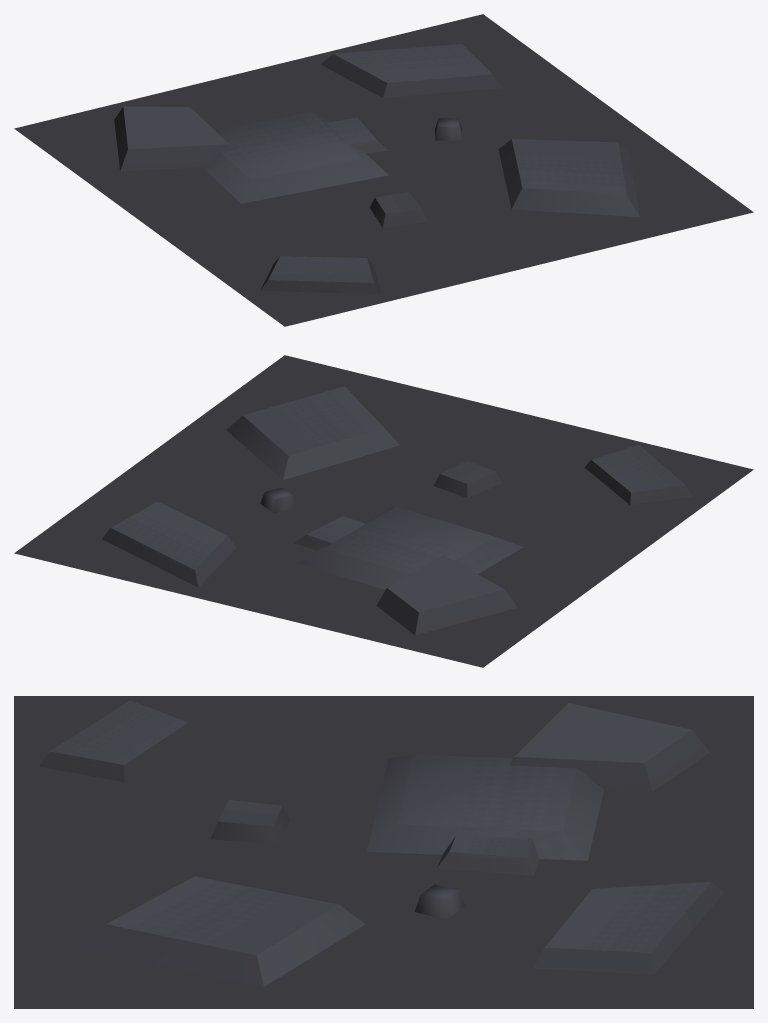
File: Fire-Floor-Pebbles.fbx
3 renders of one model, top to bottom at view 1: azimuth 30°, elevation 25°; view 2: azimuth 150°, elevation 25°; view 3: azimuth 270°, elevation 25°, orthographic. The views are drawn at different scales.
Visible parts, largest first — view 1: Floor_Pebbles.001; view 2: Floor_Pebbles.001; view 3: Floor_Pebbles.001.
Boxes of the visible parts, x1,y1,x2,y2 form: Floor_Pebbles.001: [14, 14, 753, 326]; Floor_Pebbles.001: [14, 355, 753, 667]; Floor_Pebbles.001: [14, 696, 753, 1008].
Bounding box in the file's own units: 1 × 0.0358 × 1.
